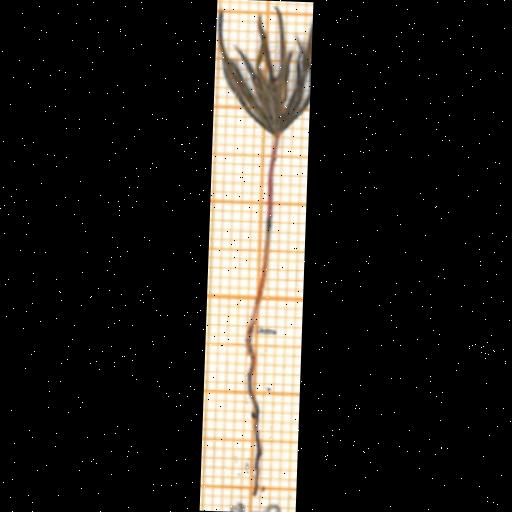flowerPinus: (222, 10, 312, 135)
rootPinus: (246, 327, 260, 493)
stemPinus: (248, 136, 277, 328)
